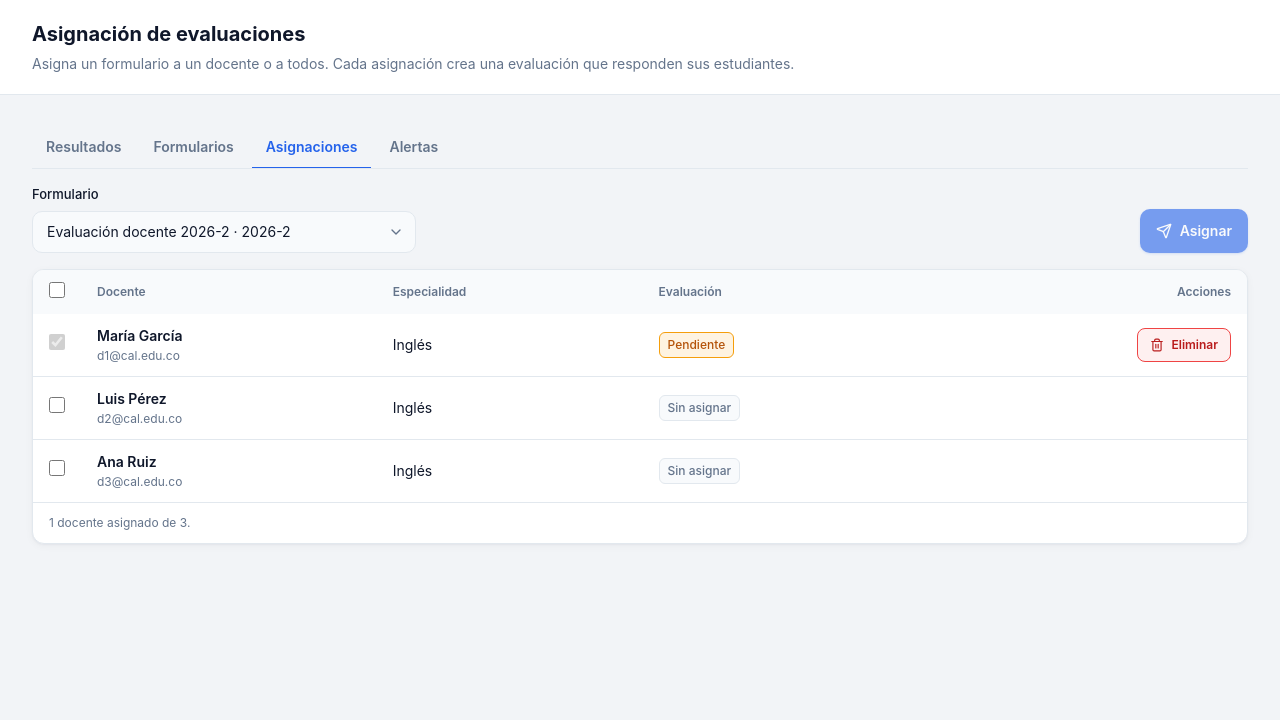
Test: Asignación de evaluaciones (RF-31, RF-32) › asigna el formulario a todos los docentes sin asignar
Click the checkbox named "Seleccionar todos los docentes sin asignar" at (57, 290), box x1=49 y1=282 x2=65 y2=298
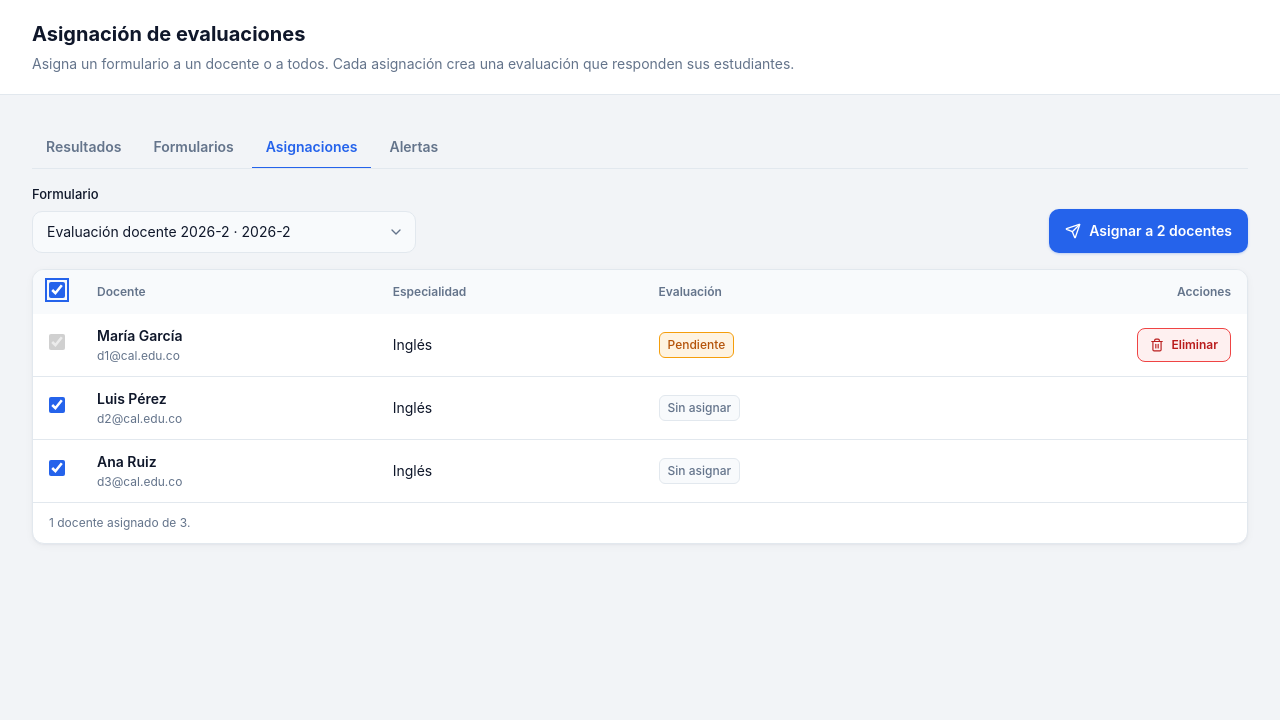
Click the button "Asignar a 2 docentes" at (1149, 230), box x1=1049 y1=208 x2=1248 y2=252
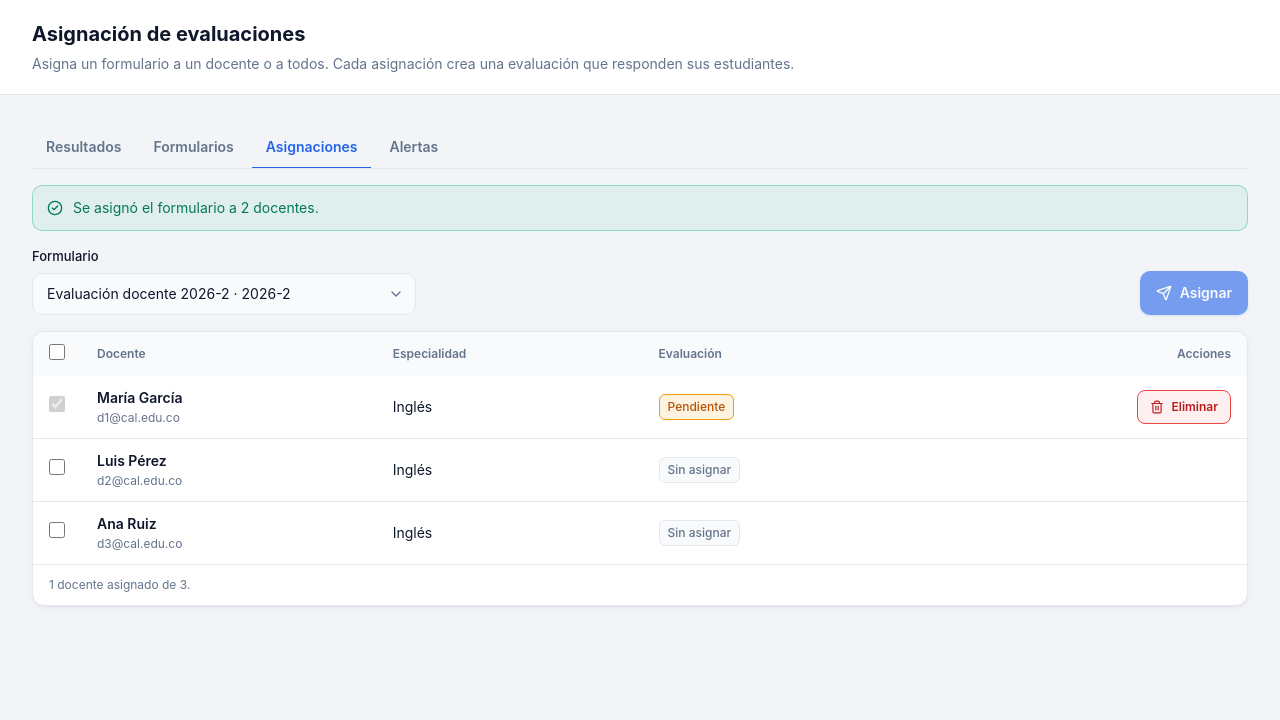
Check: the text "Se asignó el formulario a 2 docentes." is shown, box x1=73 y1=198 x2=319 y2=218
